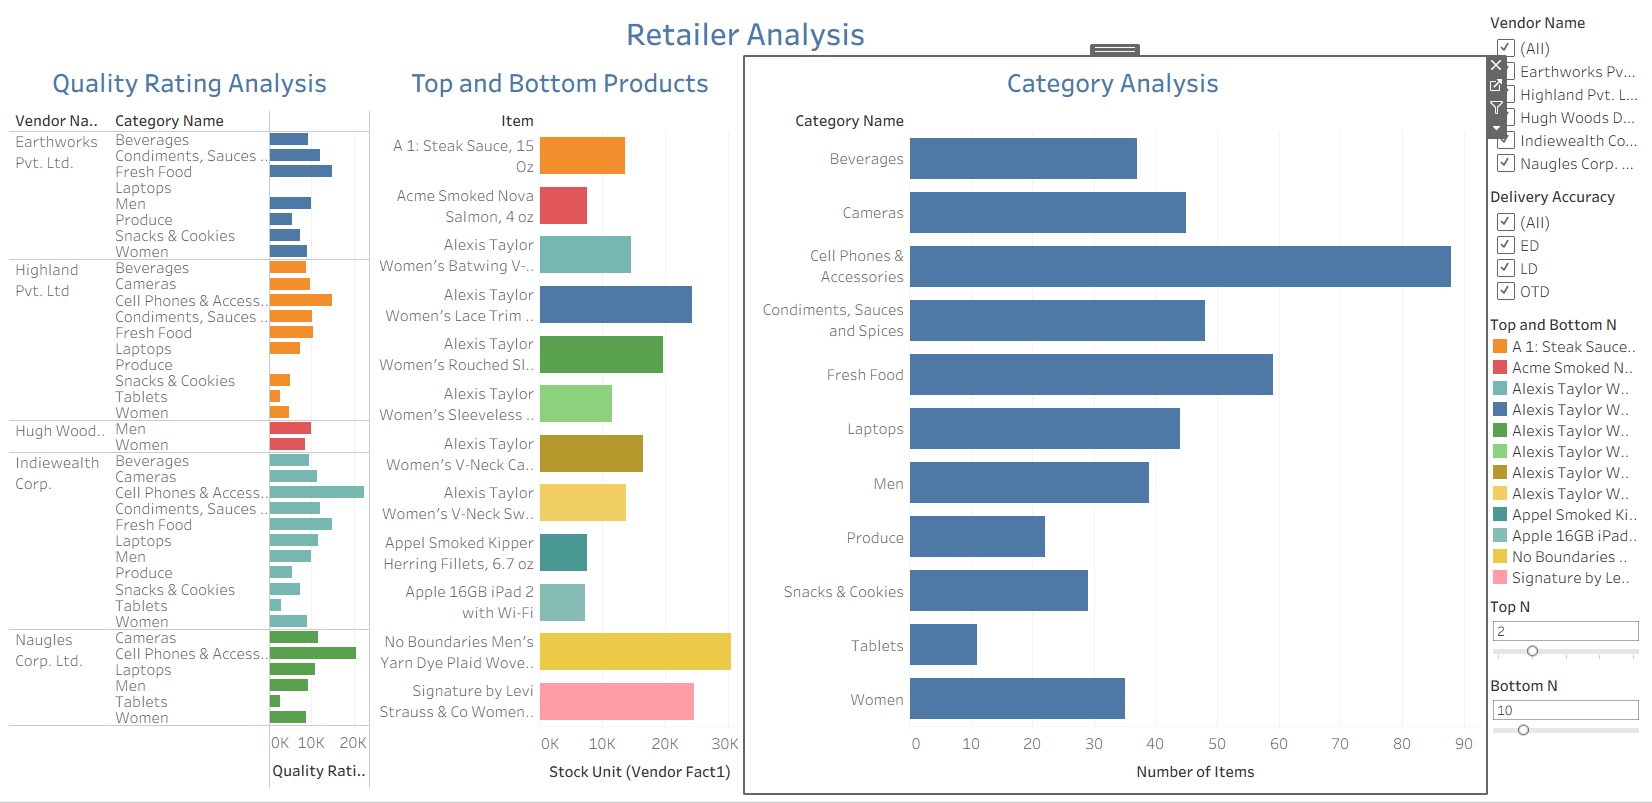

Layout of this report page (visuals, bound fields, positions):
{"tool":"tableau","page":{"name":"Retailer Analysis Dasgboard ","canvas":[1000,1000],"units":"permille","ordinal":1},"visuals":[{"type":"title","box":[4.7,10,895.9,61.2]},{"type":"filter","title":"Quality Rating Analysis view","param":"[federated.17znsco18b09b21bwg28c0uu71m9].[none:Vendor_Name:nk]","box":[900.6,10,94.7,217.2]},{"type":"worksheet","title":"Quality Rating Analysis view","mark":"Automatic","rows":["Vendor_Name","CATEGORY_NAME"],"cols":["Quality_Rating (Vendor Fact1)"],"box":[4.7,71.2,224,918.8]},{"type":"worksheet","title":"Top and Bottom Products View","mark":"Automatic","rows":["ITEM"],"cols":["Stock_Unit (Vendor Fact1)"],"box":[228.7,71.2,224,918.8]},{"type":"worksheet","title":"Category Analysis View","mark":"Automatic","rows":["CATEGORY_NAME"],"cols":["Item_714E8E6E25B94401B6154725383725F6"],"box":[452.6,71.2,448,918.8]},{"type":"filter","title":"Quality Rating Analysis view","param":"[federated.17znsco18b09b21bwg28c0uu71m9].[none:Delivery_Accuracy:nk]","box":[900.6,227.2,94.7,159.8]},{"type":"legend","title":"Top and Bottom Products View","param":"[federated.17znsco18b09b21bwg28c0uu71m9].[Set 1]","box":[900.6,387,94.7,352.1]},{"type":"parameter","param":"[Parameters].[Parameter 1]","box":[900.6,739.1,94.7,98.6]},{"type":"parameter","param":"[Parameters].[Parameter 2]","box":[900.6,837.7,94.7,98.6]}]}

Visuals, with their boxes on the dashboard's canvas, which has no fixed pixel size, in thousandths of its width and height (x1, y1, x2, y2). These are canvas units, not pixel positions in the 1652x803 screenshot, which may show the page scaled, cropped or inside an application window:
title: left=5, top=10, right=901, bottom=71
"Quality Rating Analysis view" filter: left=901, top=10, right=995, bottom=227
"Quality Rating Analysis view" worksheet: left=5, top=71, right=229, bottom=990
"Top and Bottom Products View" worksheet: left=229, top=71, right=453, bottom=990
"Category Analysis View" worksheet: left=453, top=71, right=901, bottom=990
"Quality Rating Analysis view" filter: left=901, top=227, right=995, bottom=387
"Top and Bottom Products View" legend: left=901, top=387, right=995, bottom=739
parameter: left=901, top=739, right=995, bottom=838
parameter: left=901, top=838, right=995, bottom=936
